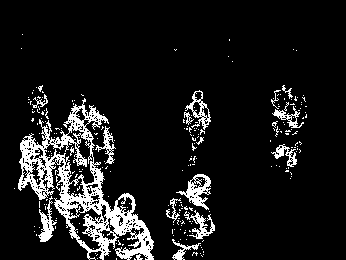person: (165, 173, 216, 260), (65, 95, 118, 172), (59, 176, 107, 260), (15, 138, 54, 241), (47, 127, 81, 235), (271, 83, 307, 178), (106, 190, 152, 260), (181, 87, 212, 165)
